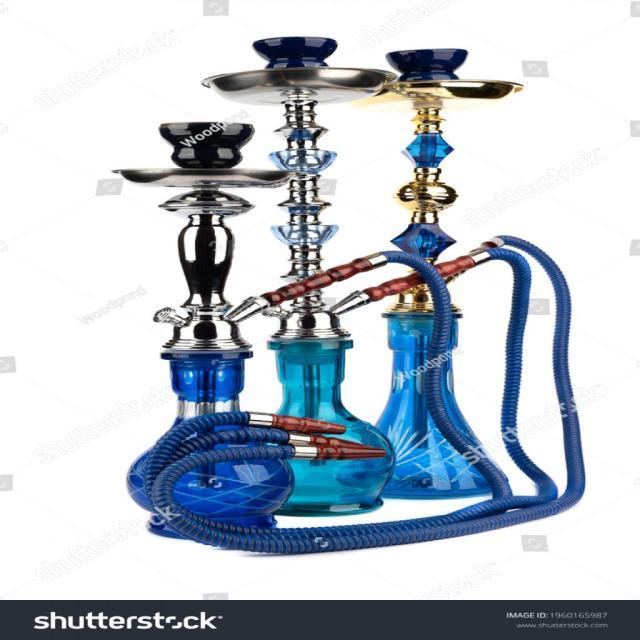smoking: (96, 17, 589, 566)
